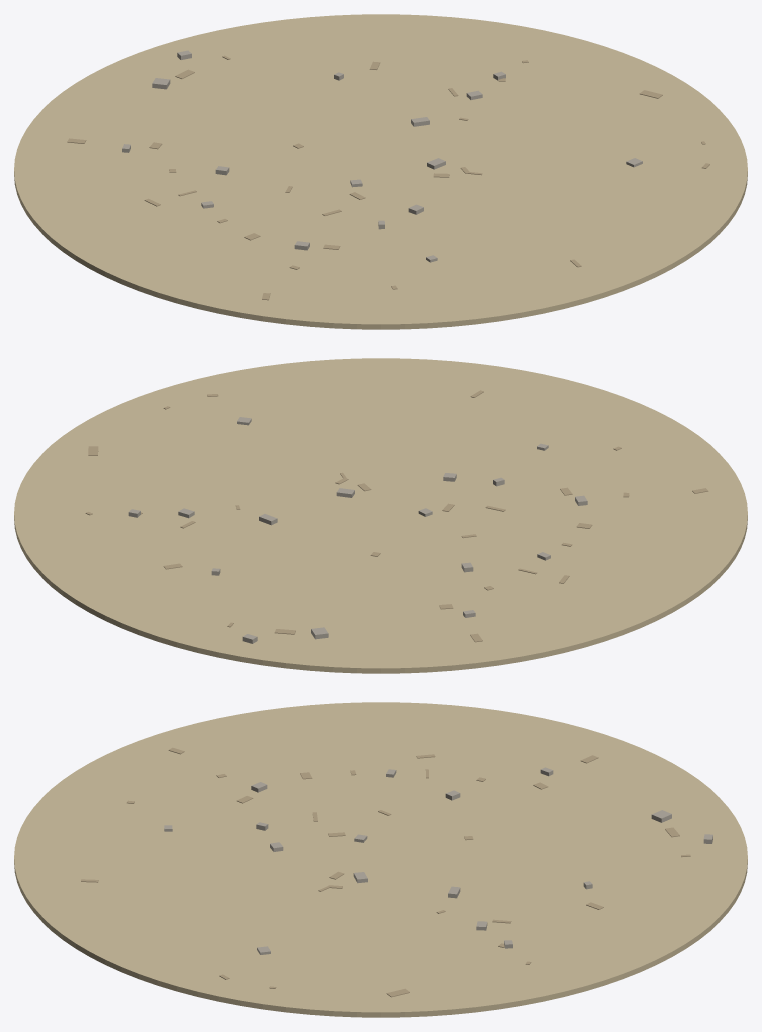
The model's file is arena_floor_round_sand.glb.
The picture shows the model from 3 angles, top to bottom: view 1: azimuth 30°, elevation 25°; view 2: azimuth 150°, elevation 25°; view 3: azimuth 270°, elevation 25°; orthographic projection.
Visible parts, largest first — view 1: arena_floor; view 2: arena_floor; view 3: arena_floor.
Part boxes in pixels (x1=…): arena_floor: x1=14, y1=14, x2=747, y2=329; arena_floor: x1=14, y1=358, x2=747, y2=673; arena_floor: x1=14, y1=702, x2=747, y2=1017.
Bounding box in the file's own units: 15 × 0.2191 × 15.
